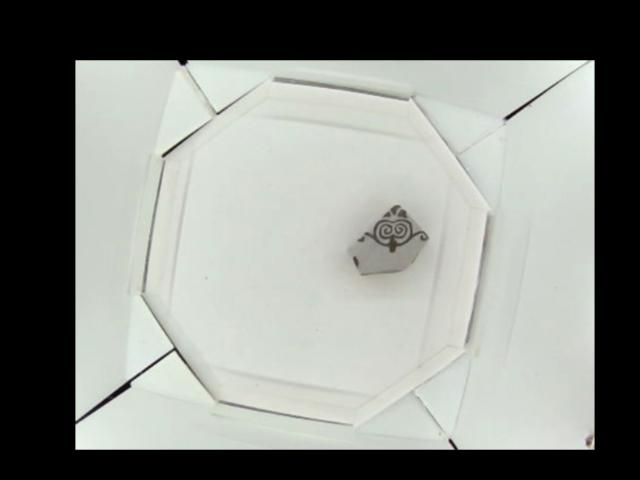China: (350, 205, 426, 280)
